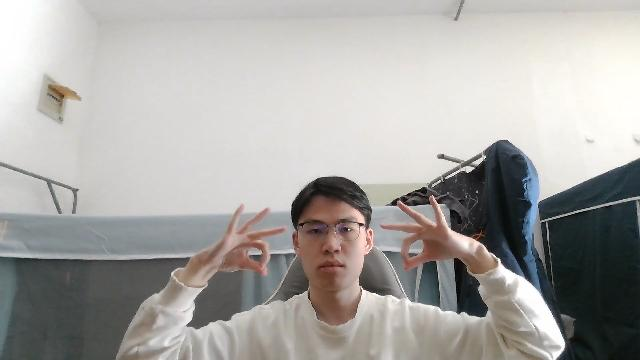ok: (176, 199, 288, 285), (380, 195, 477, 270)
